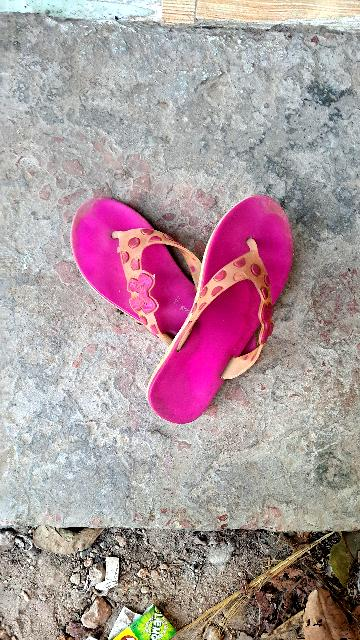sandal: (101, 177, 320, 452), (55, 187, 274, 374)
